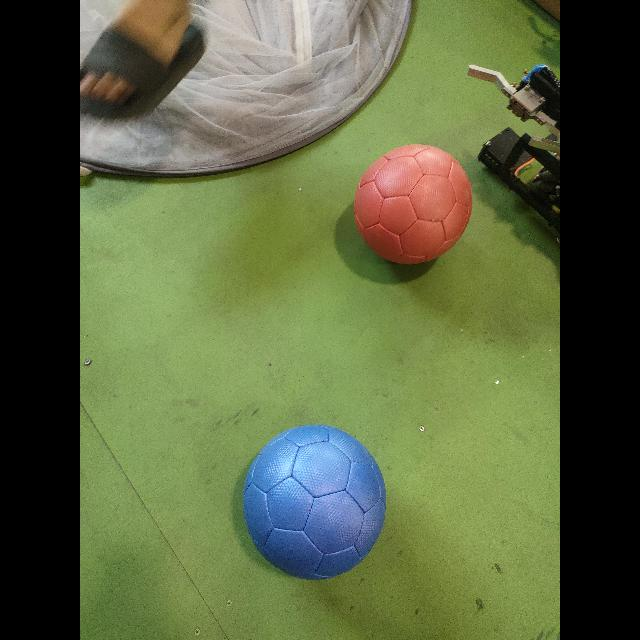B: (242, 424, 388, 578)
R: (354, 142, 476, 266)
